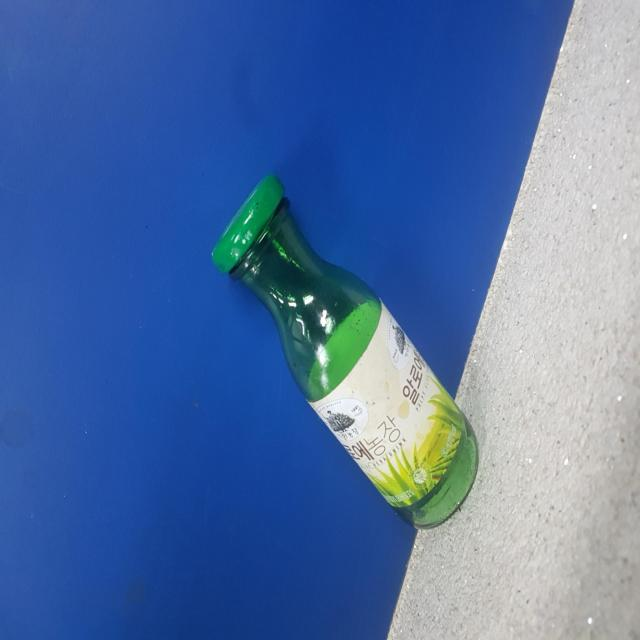glass: (214, 176, 479, 528)
